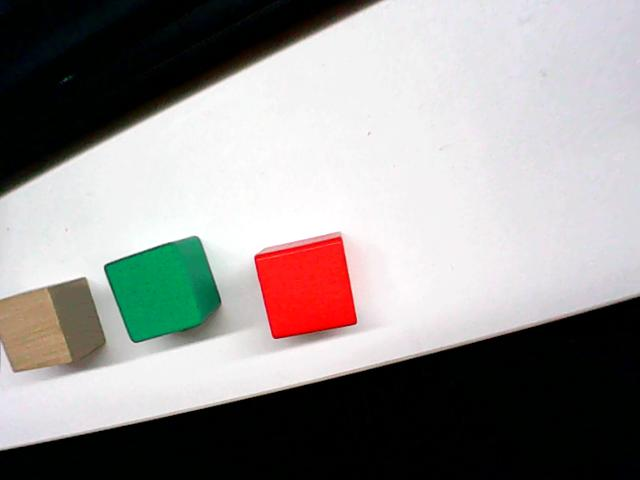green_box: (102, 232, 223, 343)
raw_box: (0, 278, 105, 379)
red_box: (251, 228, 360, 341)
